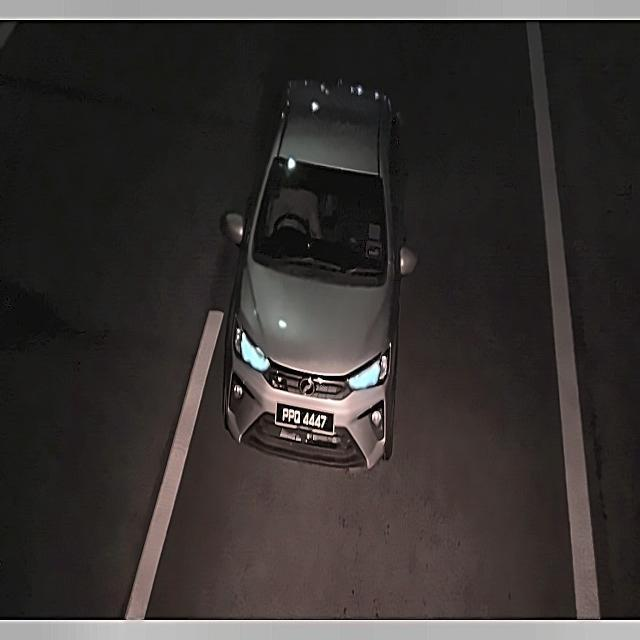car: (276, 401, 337, 441)
